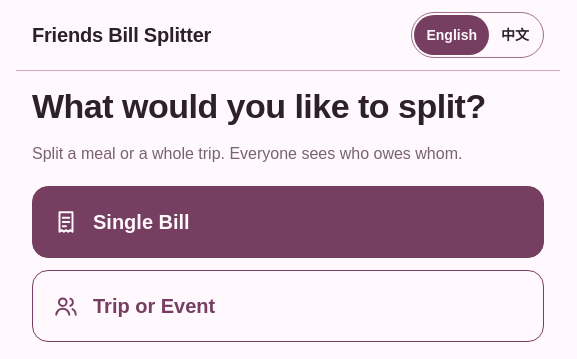
Test: App › switches between English and Simplified Chinese
Check: the heading "What would you like to split?" is shown, box [32,87,544,126]
Click the button with aria-label "简体中文": [515, 35] box [489,15,541,55]
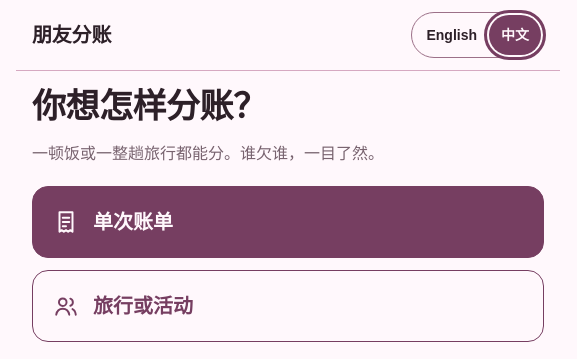
Check: the heading "你想怎样分账？" is shown, box [32,87,266,125]
